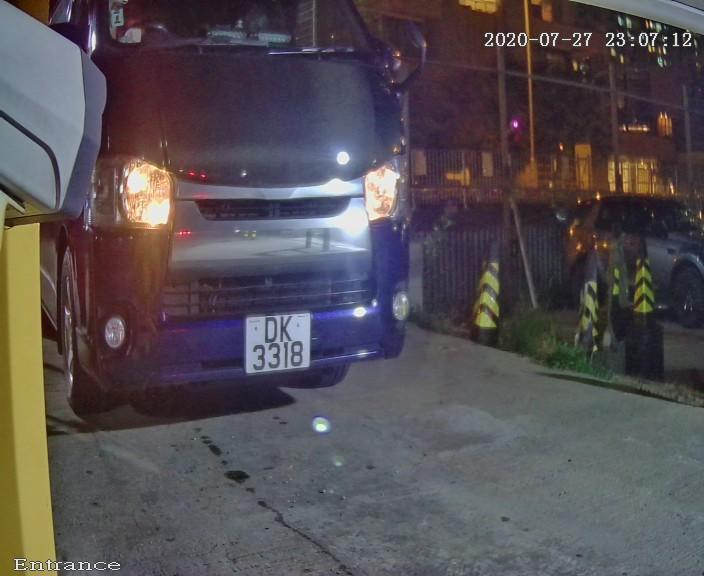privatecar: (19, 16, 463, 453)
